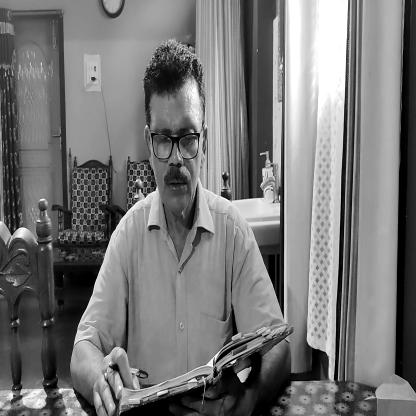Normal: (144, 41, 206, 218)
